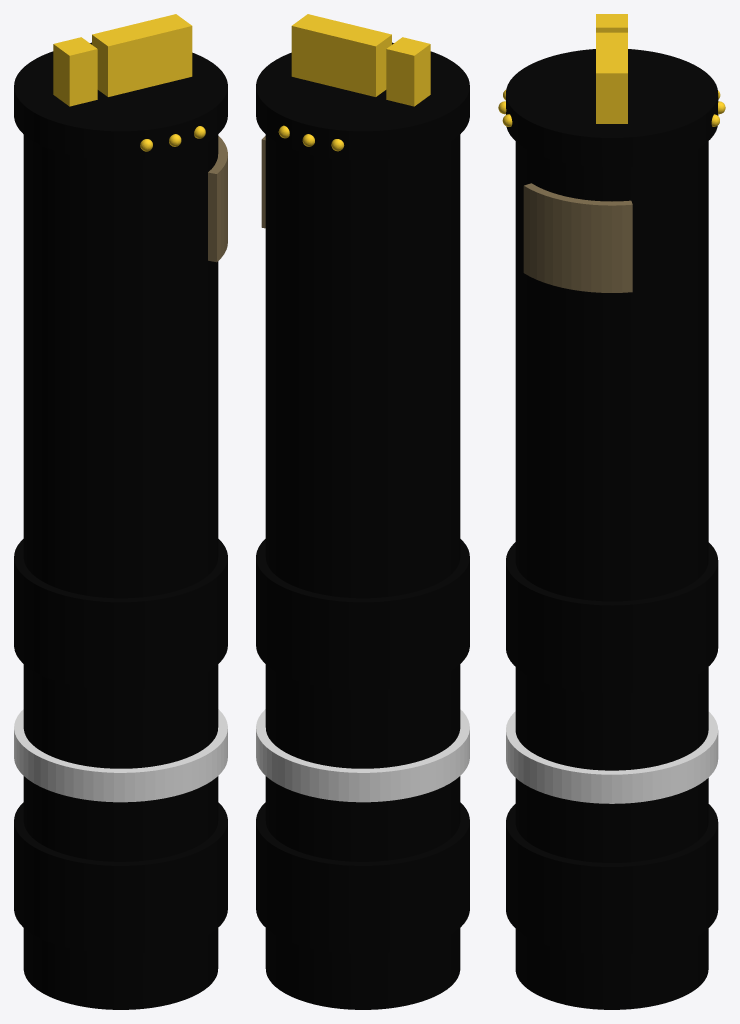
The model's file is Credstick silver.fbx.
The picture shows the model from 3 angles, left to right: view 1: azimuth 30°, elevation 25°; view 2: azimuth 150°, elevation 25°; view 3: azimuth 270°, elevation 25°; orthographic projection.
Parts seen in each view (by area): view 1: Cylinder.003, Cylinder.004, Cylinder.002, Cylinder, Cylinder.005, Cube, Cube.001, Cylinder.001; view 2: Cylinder.003, Cylinder.004, Cylinder.002, Cylinder, Cylinder.005, Cube, Cube.001; view 3: Cylinder.003, Cylinder.002, Cylinder.004, Cylinder, Cylinder.001, Cylinder.005, Cube, Cube.001.
Boxes of the visible parts, x1,y1,x2,y2 form: Cylinder.003: (23, 134, 218, 1009); Cylinder.004: (14, 539, 227, 690); Cylinder.002: (14, 802, 227, 954); Cylinder: (14, 42, 227, 160); Cylinder.005: (14, 709, 227, 802); Cube: (92, 14, 192, 96); Cube.001: (53, 37, 97, 106); Cylinder.001: (208, 136, 227, 262); Cylinder.003: (265, 134, 460, 1009); Cylinder.004: (256, 539, 469, 690); Cylinder.002: (256, 802, 469, 954); Cylinder: (256, 42, 469, 160); Cylinder.005: (256, 709, 469, 802); Cube: (291, 14, 391, 96); Cube.001: (386, 37, 430, 106); Cylinder.003: (515, 141, 708, 1009); Cylinder.002: (506, 804, 718, 954); Cylinder.004: (506, 542, 718, 692); Cylinder: (506, 49, 718, 167); Cylinder.001: (523, 183, 632, 292); Cylinder.005: (506, 711, 718, 803); Cube: (596, 32, 627, 123); Cube.001: (596, 14, 627, 32).
Bounding box in the file's own units: 3.3 × 15.88 × 3.53.
